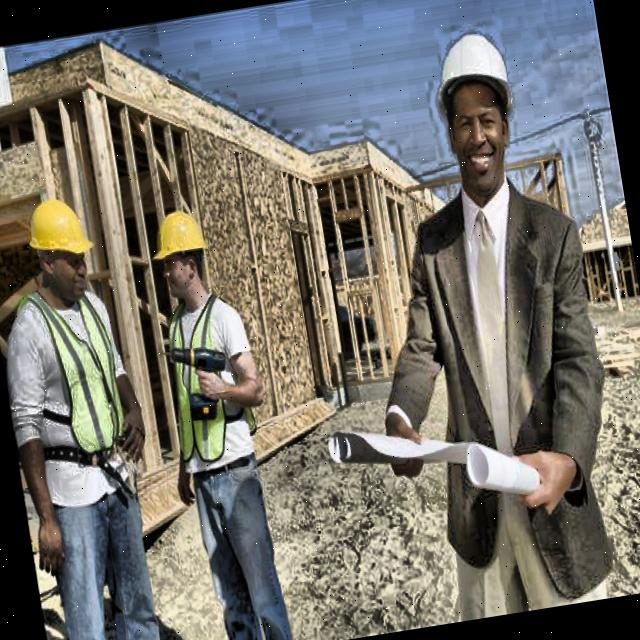helmet: (412, 9, 535, 218), (18, 182, 106, 312), (142, 192, 225, 324)
